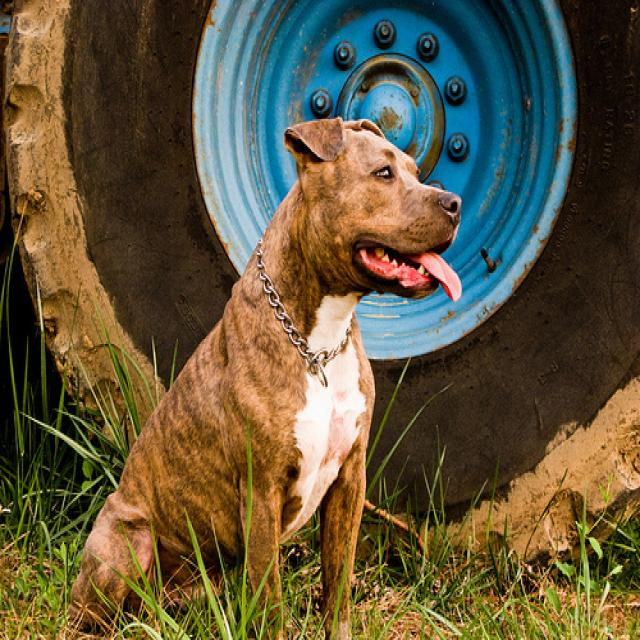dog-american_pit_bull_terrier: (54, 104, 468, 637)
